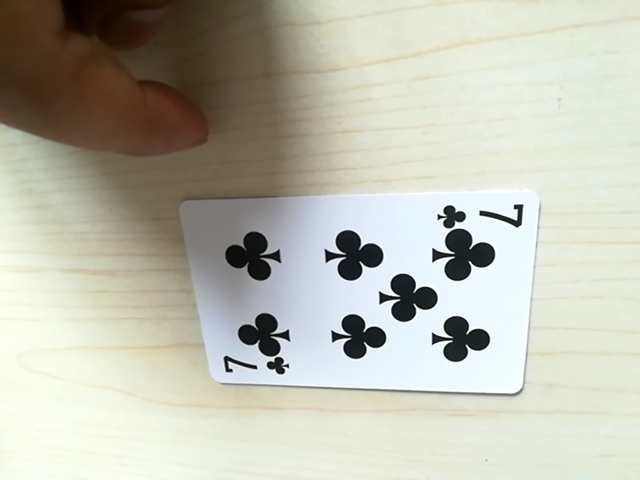mh 7: (443, 196, 526, 227), (215, 353, 288, 385)
